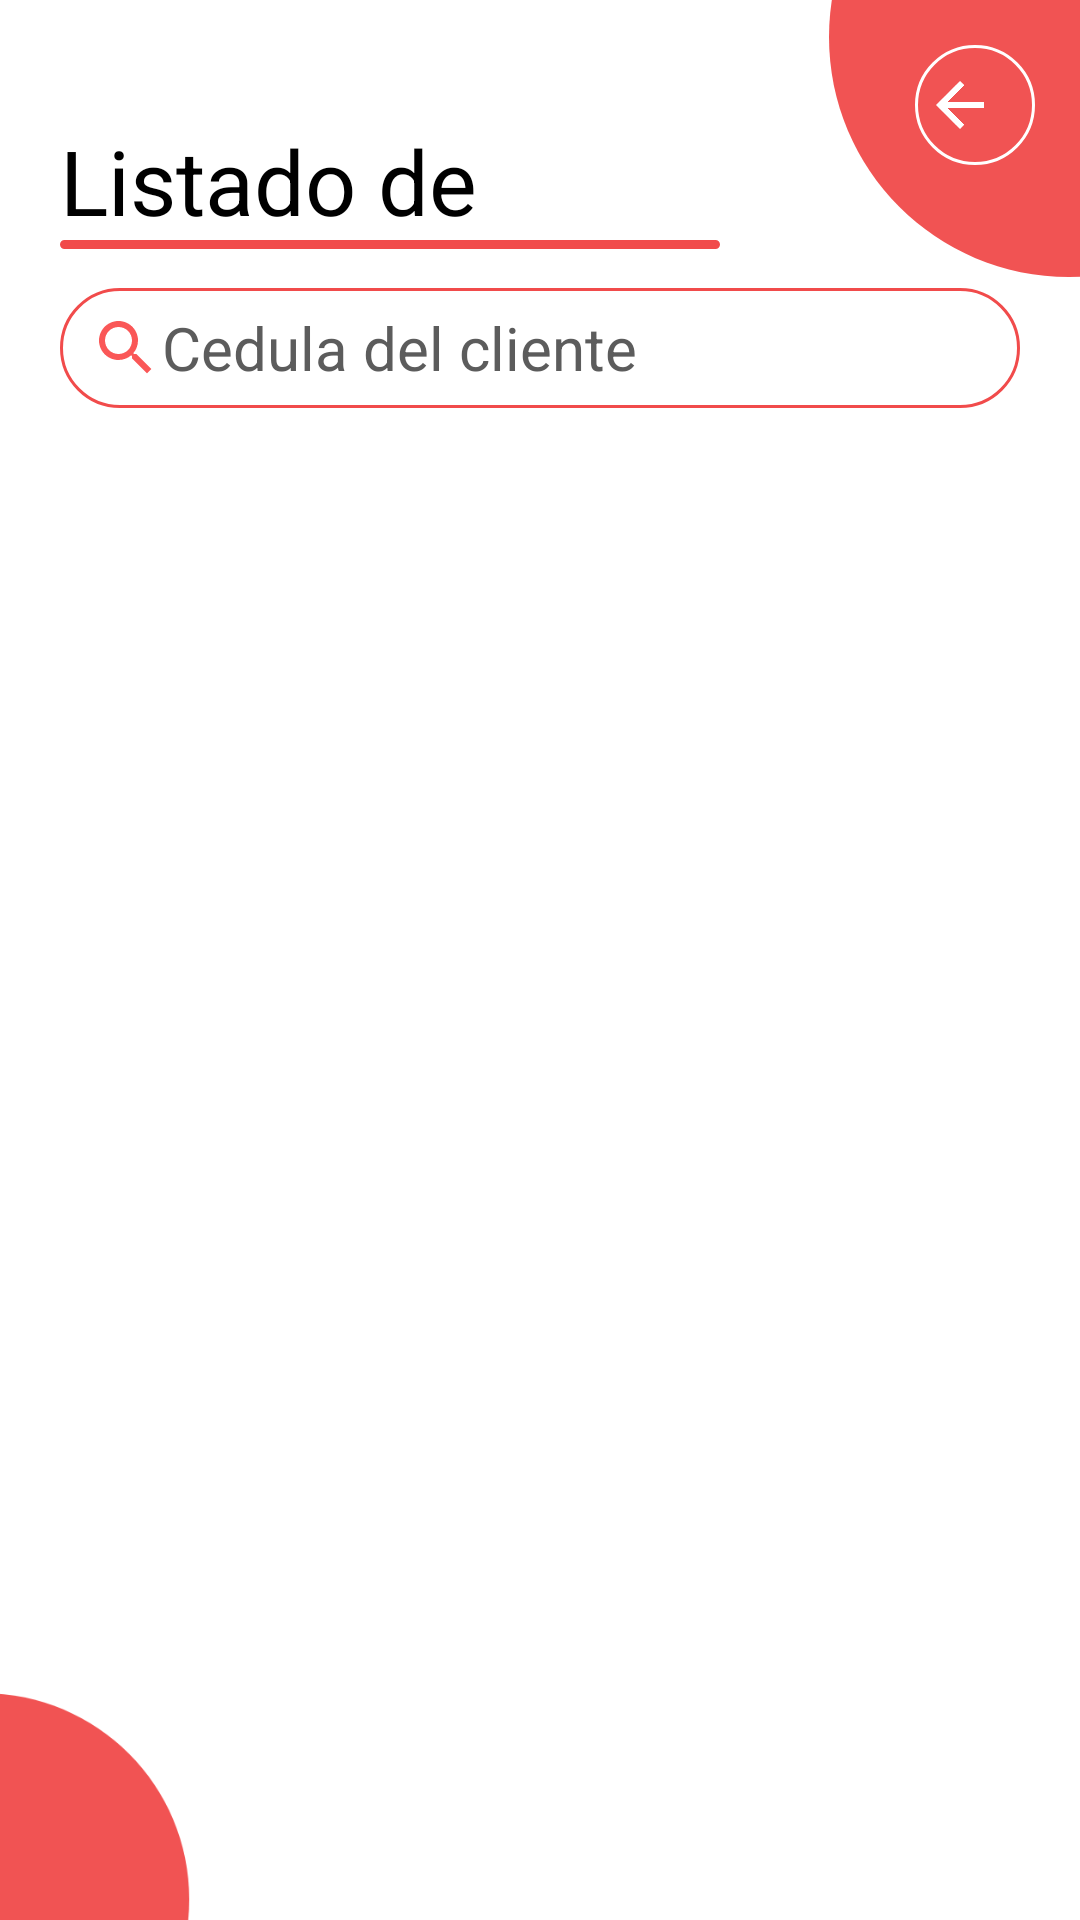

Named icons in this screenshot (1080px×1920px) and their bounding boxes, (x1, y1, x2, y2):
back: (915, 45, 1035, 165)
